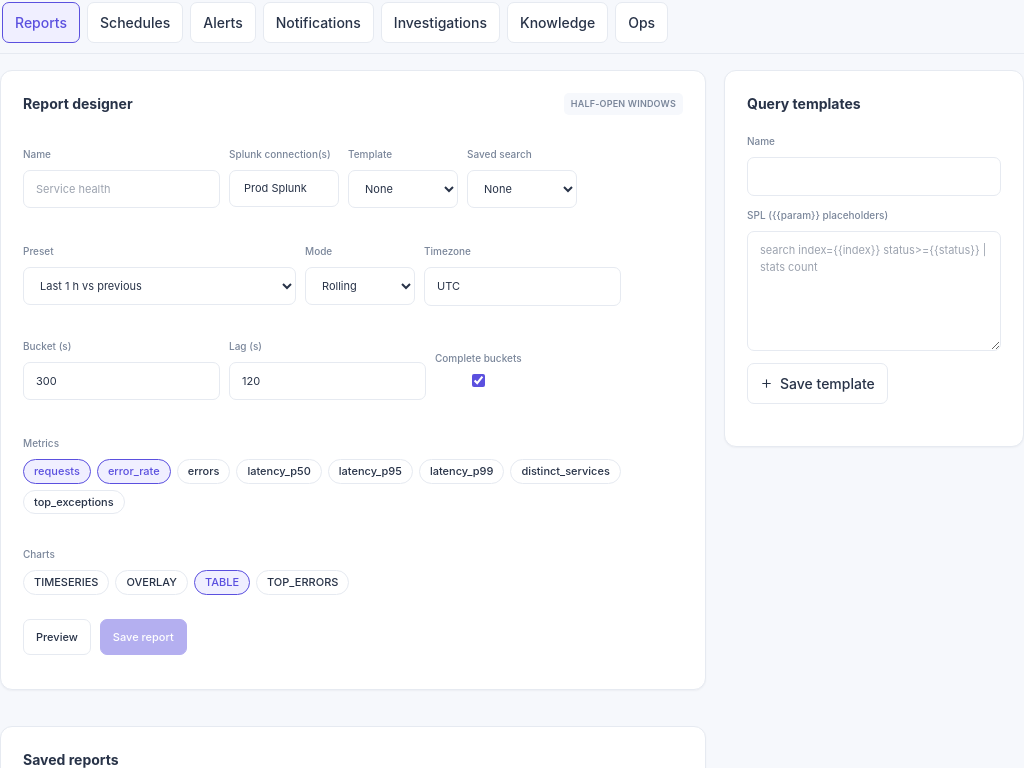
Test case: Monitoring › previews upcoming schedule runs automatically
Click the tab "Schedules": coordinates (135, 22) [87,2,183,43]
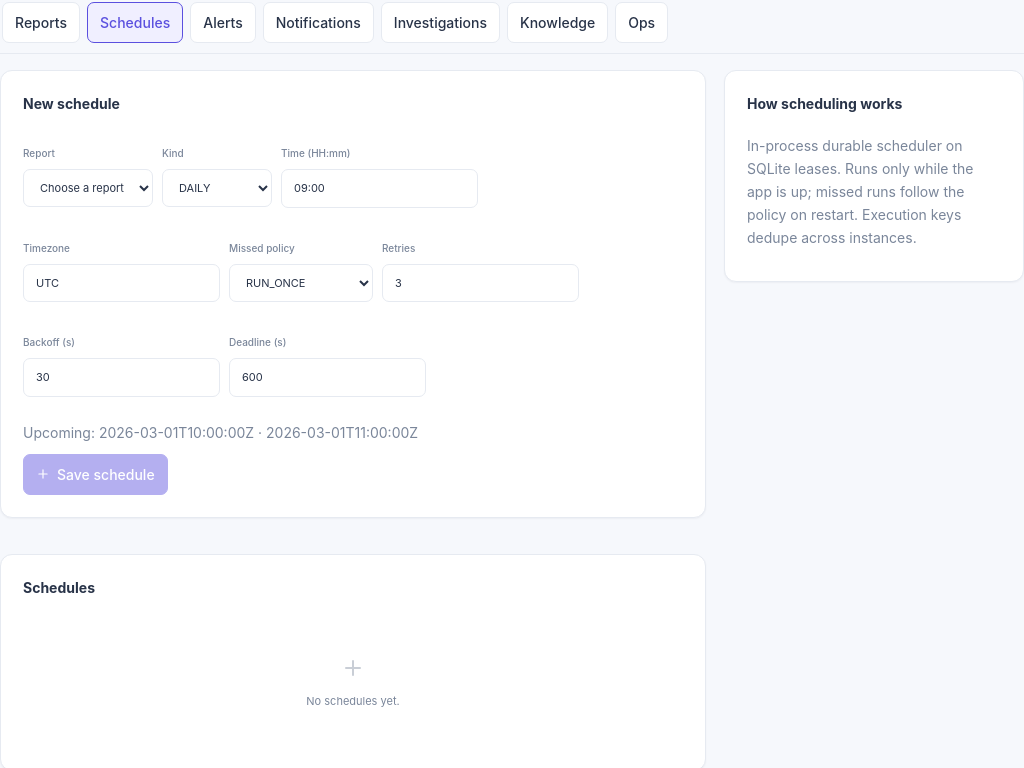
Check: the text "Upcoming: 2026-03-01T10:00:00Z · 2026-03-01T11:00:00Z" is shown, box [23,424,418,440]
Check: the dropdown named "Missed run policy" is shown, box [229,264,373,302]
Check: the number field named "Retry limit" is shown, box [382,264,579,302]
